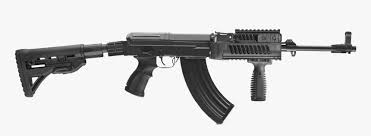long_gun: (13, 24, 359, 123)
